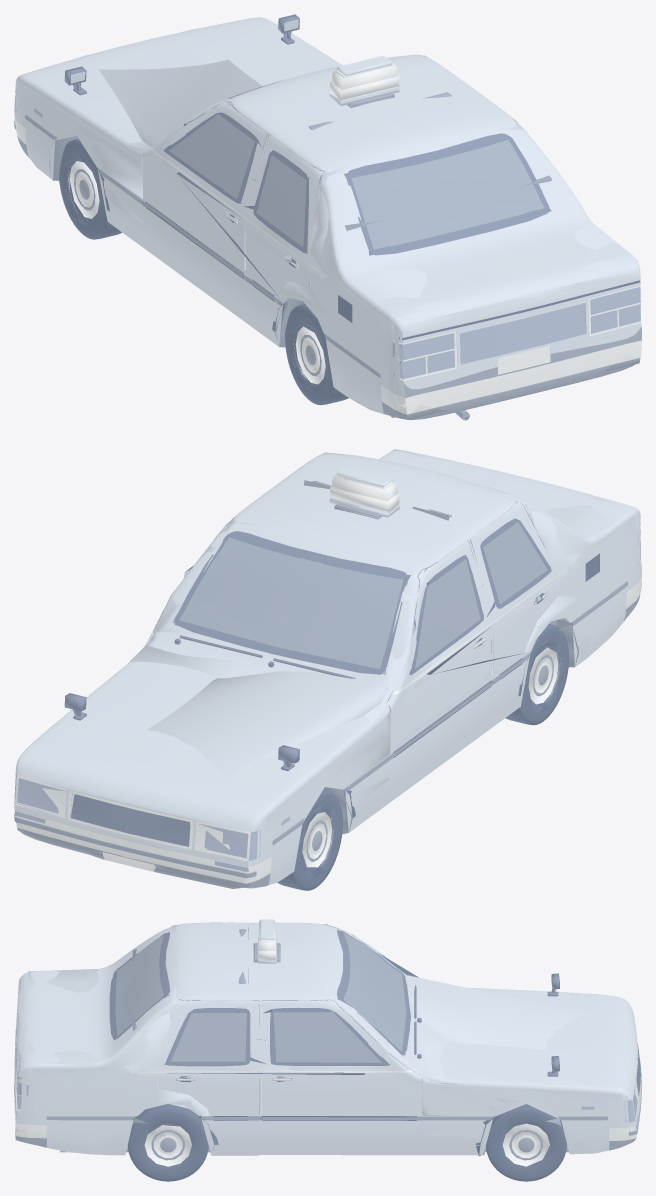
File: taxi.glb
3 views of the same model, one above another, from view 1: azimuth 30°, elevation 25°; view 2: azimuth 150°, elevation 25°; view 3: azimuth 270°, elevation 25° (orthographic). The views are drawn at different scales.
Parts seen in each view (by area): view 1: near_body_mesh, street_body_mesh, near_body_glass_mesh, far_body_mesh, street_body_glass_mesh, near_wheel_rl_mesh, near_wheel_fl_mesh; view 2: near_body_mesh, street_body_mesh, far_body_mesh, near_body_glass_mesh, street_body_glass_mesh, near_wheel_rl_mesh, near_wheel_fl_mesh; view 3: near_body_mesh, street_body_mesh, street_door_mesh, far_body_mesh, near_door_mesh, near_body_glass_mesh, street_door_glass_mesh, street_body_glass_mesh, near_wheel_rr_mesh, near_wheel_fr_mesh, far_door_mesh.
Part boxes in pixels (x1=…): near_body_mesh: x1=14, y1=17, x2=641, y2=420; street_body_mesh: x1=15, y1=14, x2=641, y2=419; near_body_glass_mesh: x1=351, y1=139, x2=539, y2=246; far_body_mesh: x1=50, y1=31, x2=640, y2=397; street_body_glass_mesh: x1=169, y1=114, x2=544, y2=249; near_wheel_rl_mesh: x1=285, y1=304, x2=357, y2=405; near_wheel_fl_mesh: x1=59, y1=138, x2=121, y2=239; near_body_mesh: x1=14, y1=449, x2=641, y2=888; street_body_mesh: x1=14, y1=449, x2=641, y2=889; far_body_mesh: x1=42, y1=477, x2=622, y2=883; near_body_glass_mesh: x1=187, y1=537, x2=403, y2=655; street_body_glass_mesh: x1=179, y1=522, x2=547, y2=668; near_wheel_rl_mesh: x1=505, y1=624, x2=569, y2=725; near_wheel_fl_mesh: x1=277, y1=789, x2=342, y2=890; near_body_mesh: x1=14, y1=919, x2=641, y2=1154; street_body_mesh: x1=15, y1=922, x2=640, y2=1177; street_door_mesh: x1=201, y1=1000, x2=494, y2=1155; far_body_mesh: x1=17, y1=922, x2=638, y2=1176; near_door_mesh: x1=262, y1=999, x2=421, y2=1135; near_body_glass_mesh: x1=115, y1=933, x2=401, y2=1042; street_door_glass_mesh: x1=273, y1=1012, x2=381, y2=1062; street_body_glass_mesh: x1=117, y1=952, x2=406, y2=1061; near_wheel_rr_mesh: x1=127, y1=1104, x2=208, y2=1181; near_wheel_fr_mesh: x1=486, y1=1104, x2=566, y2=1181; far_door_mesh: x1=201, y1=1001, x2=492, y2=1154.
Bounding box in the file's own units: 1.75 × 1.73 × 4.7.
